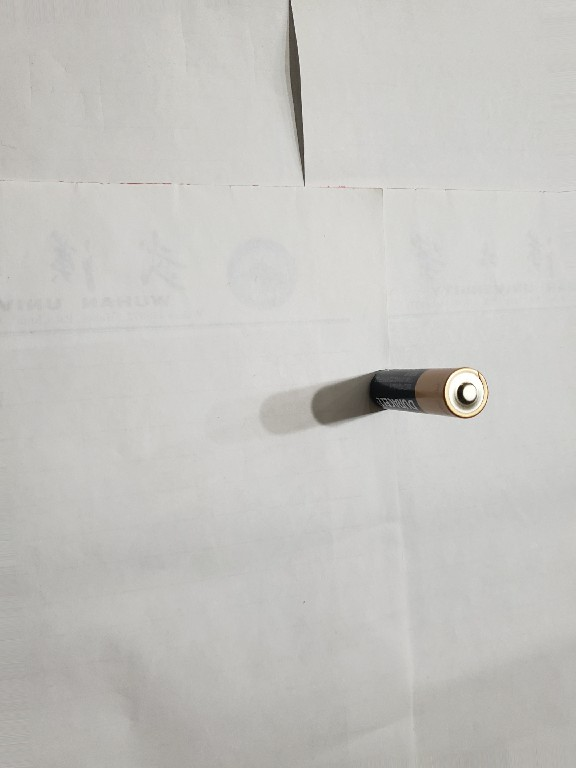charge: (368, 362, 490, 422)
